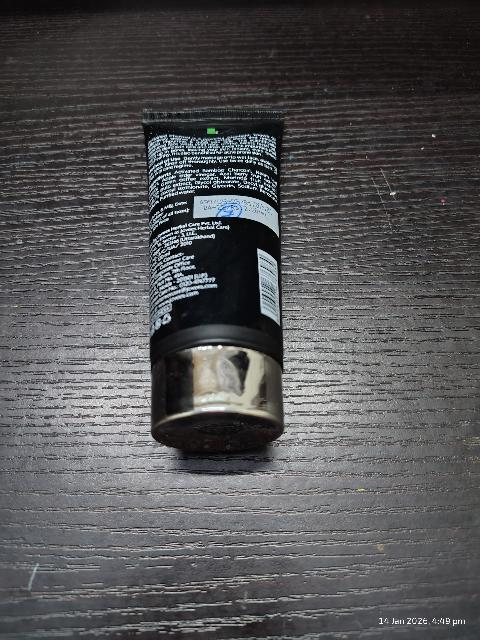jovees herbal: (142, 114, 293, 445)
